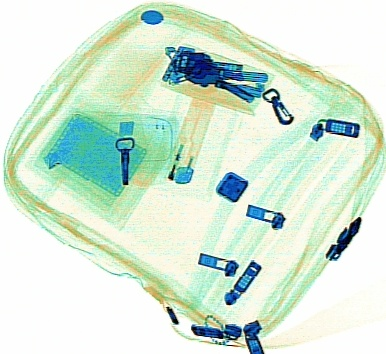lighter: (163, 86, 216, 184)
